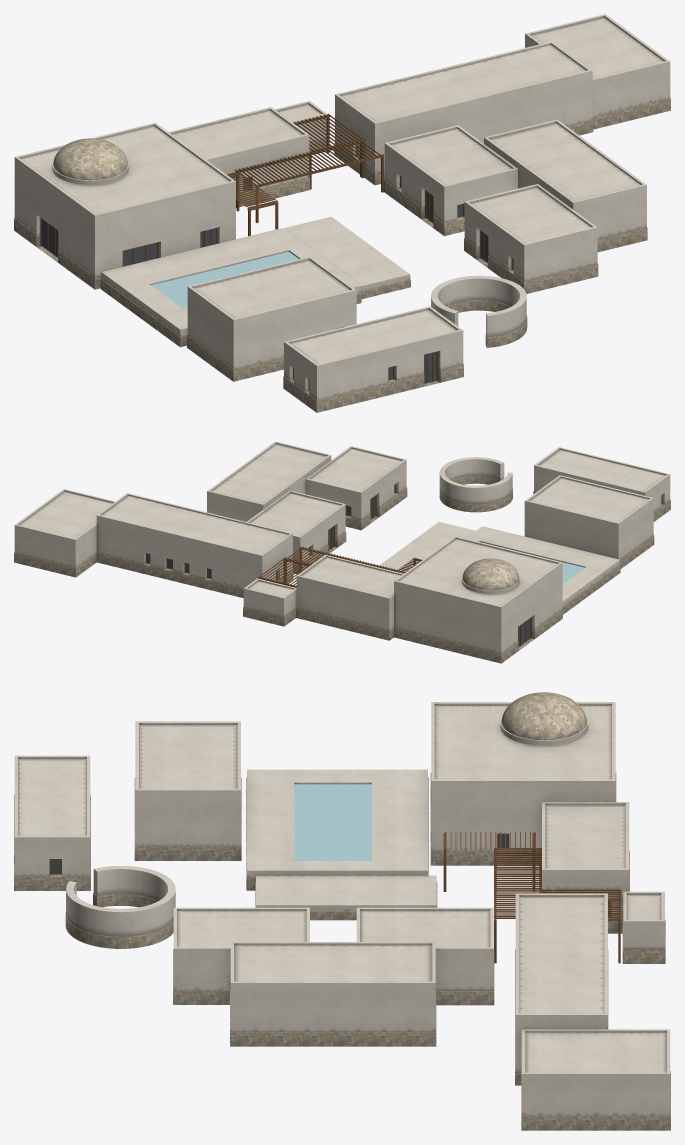
File: villa-M-hq.glb
3 views of the same model, one above another, from view 1: azimuth 30°, elevation 25°; view 2: azimuth 150°, elevation 25°; view 3: azimuth 270°, elevation 25° (orthographic). The views are drawn at different scales.
Parts seen in each view (by area): view 1: plaster, stone, wood, glass, water; view 2: plaster, stone, wood, glass, water; view 3: plaster, stone, water, wood.
Part boxes in pixels (<box>): plaster: <box>14,14,670,400</box>; stone: <box>14,98,670,412</box>; wood: <box>40,113,513,390</box>; glass: <box>41,147,513,383</box>; water: <box>151,251,298,308</box>; plaster: <box>14,441,670,653</box>; stone: <box>14,475,670,663</box>; wood: <box>146,484,661,646</box>; glass: <box>147,485,530,646</box>; water: <box>480,542,584,583</box>; plaster: <box>14,702,670,1116</box>; stone: <box>14,692,670,1130</box>; water: <box>294,784,371,860</box>; wood: <box>49,831,620,963</box>.
Bounding box in the file's own units: 52.48 × 8.05 × 42.31.
5 materials, 3 textured.
